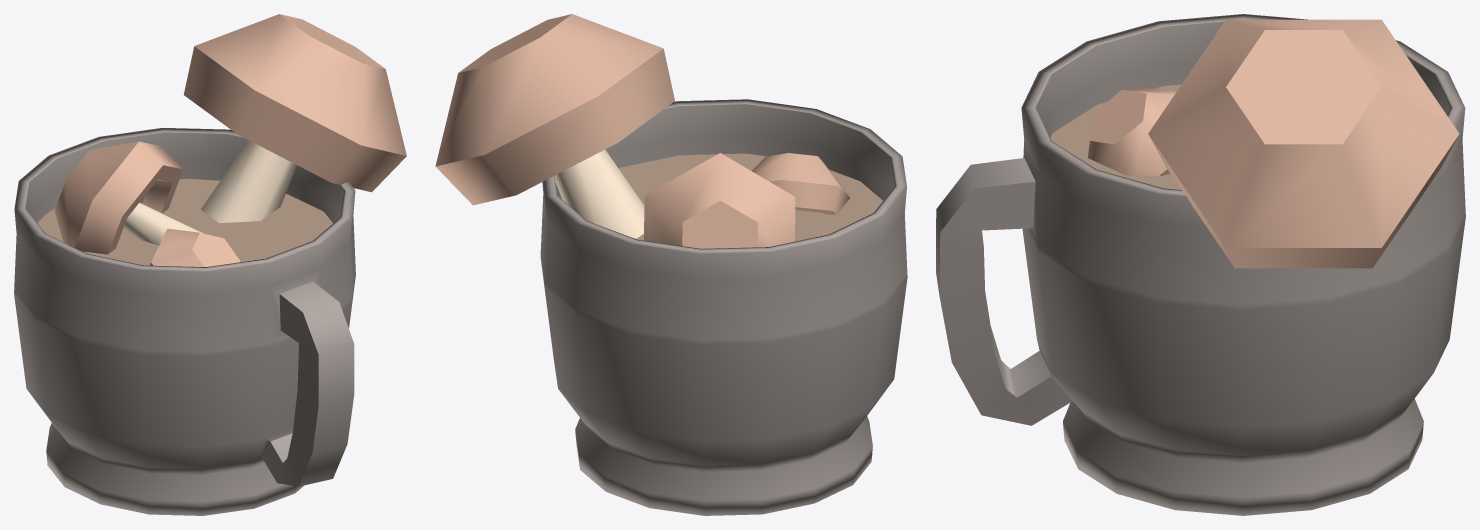
The model's file is drink4_musty.fbx.
3 renders of one model, left to right at view 1: azimuth 30°, elevation 25°; view 2: azimuth 150°, elevation 25°; view 3: azimuth 270°, elevation 25°, orthographic. The views are drawn at different scales.
Visible parts, largest first — view 1: nurbsToPoly1, mushroom, mushroom1, pDisc1, mushroom2; view 2: nurbsToPoly1, mushroom, mushroom1, pDisc1, mushroom2; view 3: nurbsToPoly1, mushroom, mushroom2, pDisc1.
Part boxes in pixels (box(x1,y1,x2,y2)): nurbsToPoly1: box(14, 127, 355, 515); mushroom: box(183, 14, 406, 223); mushroom1: box(54, 141, 206, 254); pDisc1: box(37, 179, 332, 265); mushroom2: box(150, 228, 240, 266); nurbsToPoly1: box(540, 99, 907, 515); mushroom: box(435, 14, 674, 238); mushroom1: box(644, 153, 795, 248); pDisc1: box(618, 153, 882, 241); mushroom2: box(752, 153, 849, 214); nurbsToPoly1: box(936, 14, 1465, 515); mushroom: box(1148, 19, 1459, 268); mushroom2: box(1088, 87, 1176, 176); pDisc1: box(1050, 84, 1181, 189).
Size of the model in its own units: 37.38 by 37.53 by 36.48.
